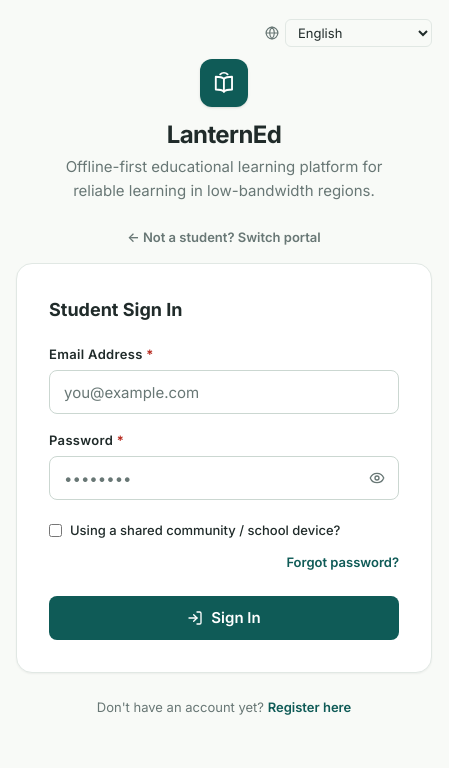
Test case: second-device sign-in needs the emailed code › shows the send failure from the server
Type "amina@example.com" into the field labelled "Email Address *" at point(224, 392), box [49, 370, 399, 414]
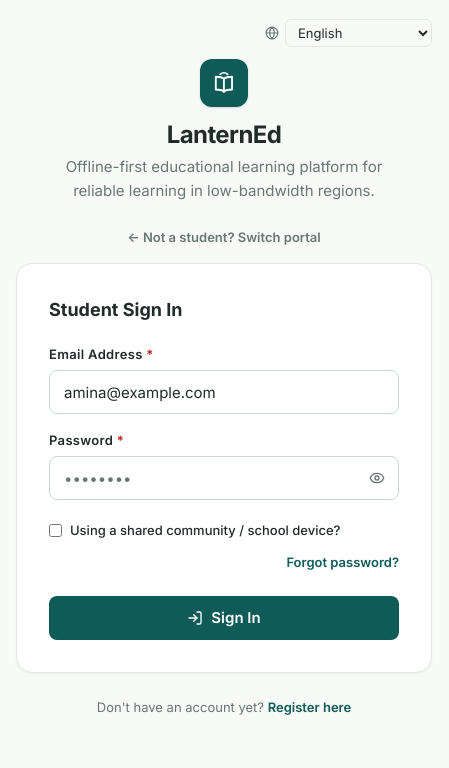
Type "password123" into the password field labelled "Password *" at point(224, 478), box [49, 456, 399, 500]
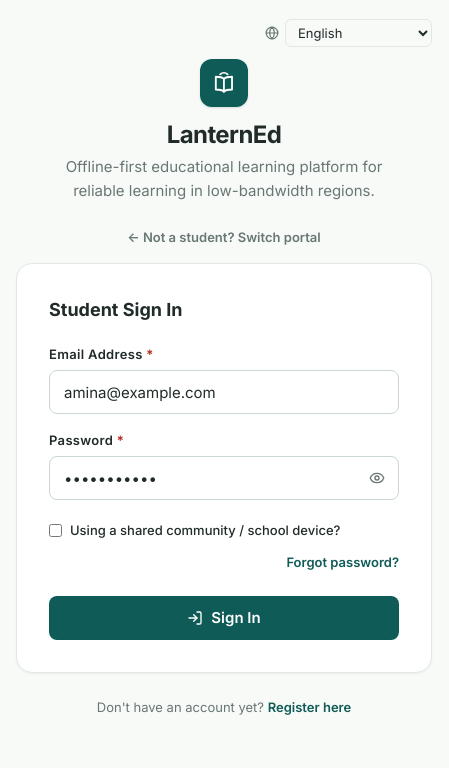
Click the button "Sign In" at point(224, 618), box [49, 596, 399, 640]
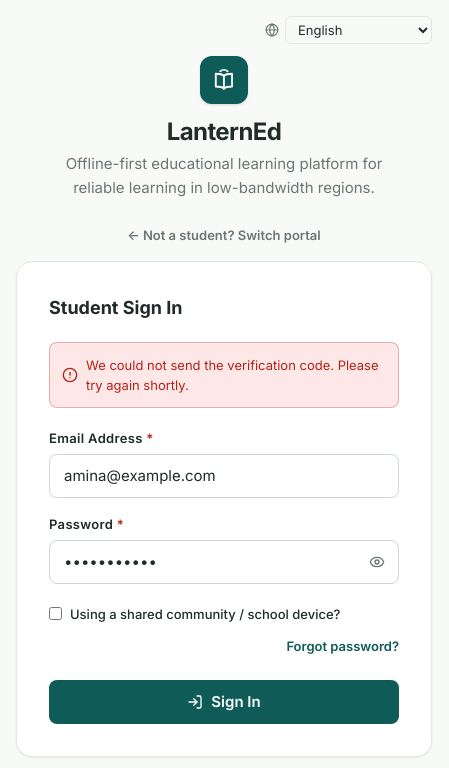
Expected: the text "could not send the verification code" is shown, [86, 357, 379, 393]
